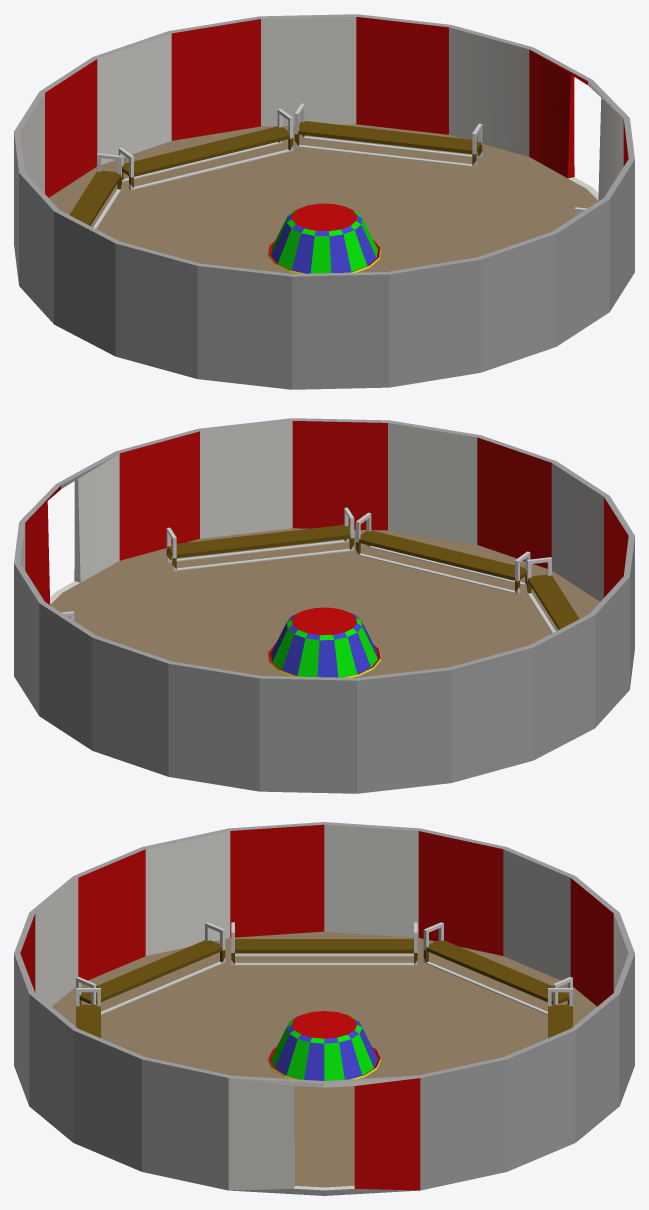
The model's file is CircusBase.fbx.
The picture shows the model from 3 angles, top to bottom: view 1: azimuth 30°, elevation 25°; view 2: azimuth 150°, elevation 25°; view 3: azimuth 270°, elevation 25°; orthographic projection.
Visible parts, largest first — view 1: pCube9; view 2: pCube9; view 3: pCube9.
Boxes of the visible parts, box(x1,y1,x2,y2) form: pCube9: box(14, 14, 634, 389); pCube9: box(14, 418, 634, 793); pCube9: box(14, 822, 634, 1195).
Bounding box in the file's own units: 996 × 200 × 1000.
